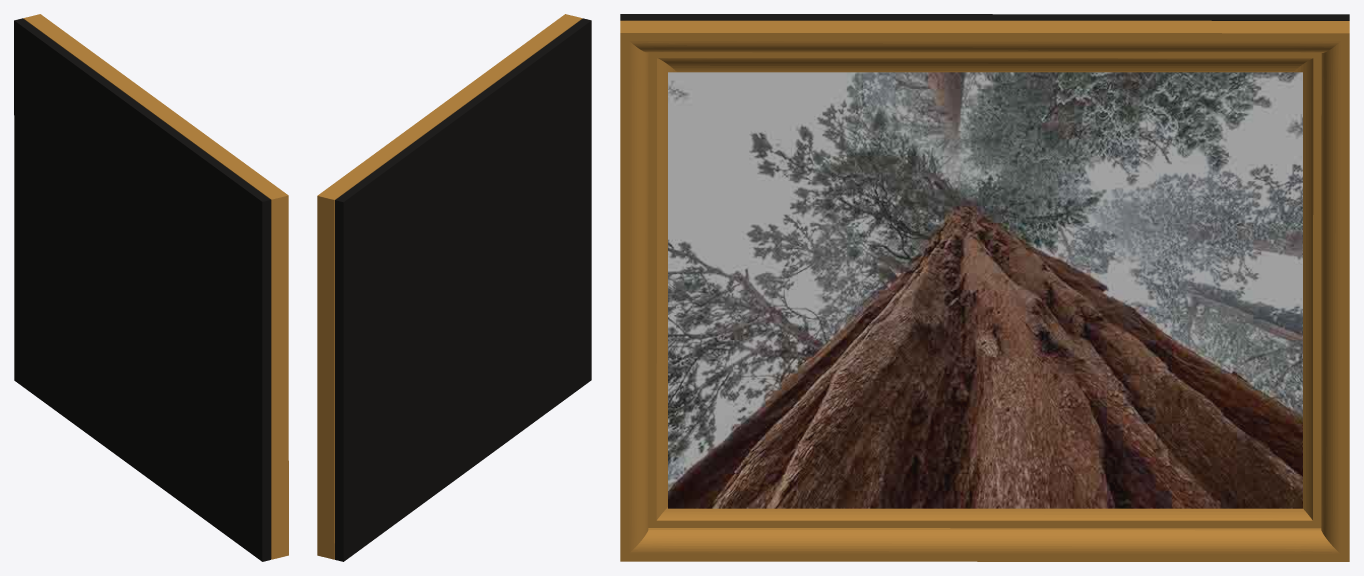
3 views of the same model, side by side, from view 1: azimuth 30°, elevation 25°; view 2: azimuth 150°, elevation 25°; view 3: azimuth 270°, elevation 25° (orthographic). The views are drawn at different scales.
Visible parts, largest first — view 1: frame.001_3.001, back panel.001_2.001; view 2: frame.001_3.001, back panel.001_2.001; view 3: frame.001_3.001, back panel.001_2.001.
Boxes of the visible parts, bbox=[...] form: frame.001_3.001: bbox=[14, 18, 270, 561]; back panel.001_2.001: bbox=[23, 14, 288, 559]; frame.001_3.001: bbox=[335, 18, 591, 561]; back panel.001_2.001: bbox=[317, 14, 582, 559]; frame.001_3.001: bbox=[620, 14, 1349, 508]; back panel.001_2.001: bbox=[620, 20, 1349, 561].
Bounding box in the file's own units: 1.05 × 13.7 × 17.12.
Materials: 3 (1 with a texture image).
